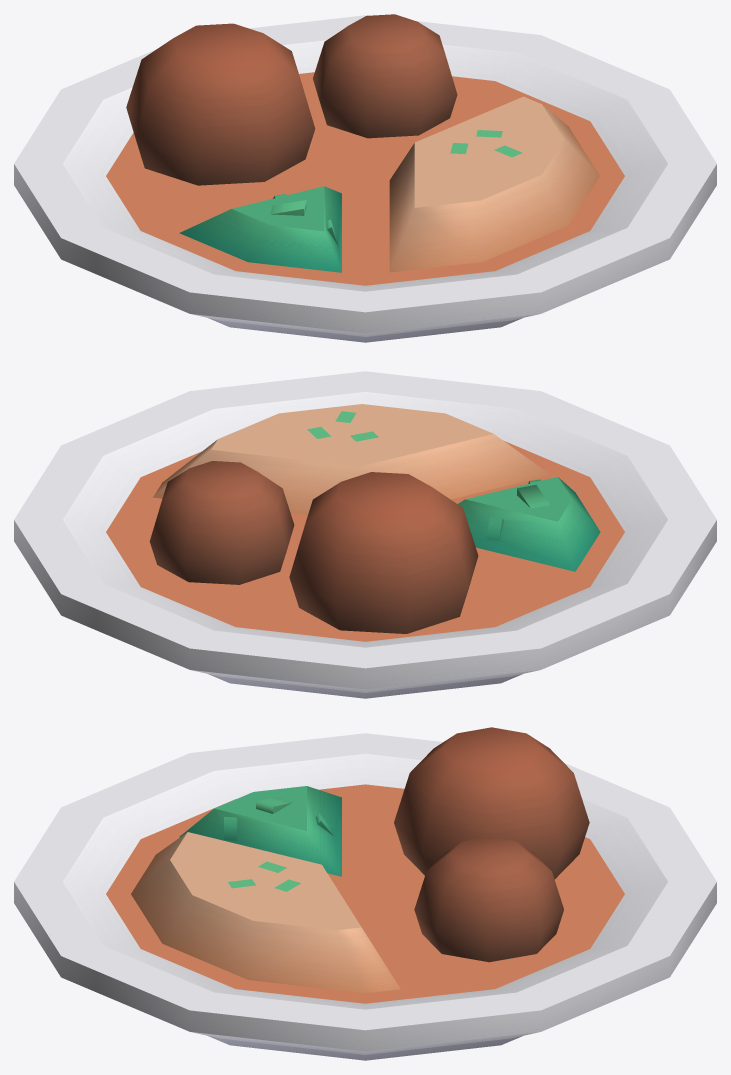
3 views of the same model, one above another, from view 1: azimuth 30°, elevation 25°; view 2: azimuth 150°, elevation 25°; view 3: azimuth 270°, elevation 25° (orthographic).
Parts seen in each view (by area): view 1: plate-dinner; view 2: plate-dinner; view 3: plate-dinner.
Part boxes in pixels (x1,y1,x2,y2): plate-dinner: (14,14,716,342); plate-dinner: (14,371,716,698); plate-dinner: (14,727,716,1060).
Size of the model in its own units: 0.374 by 0.0928 by 0.374.
1 material, 1 textured.
